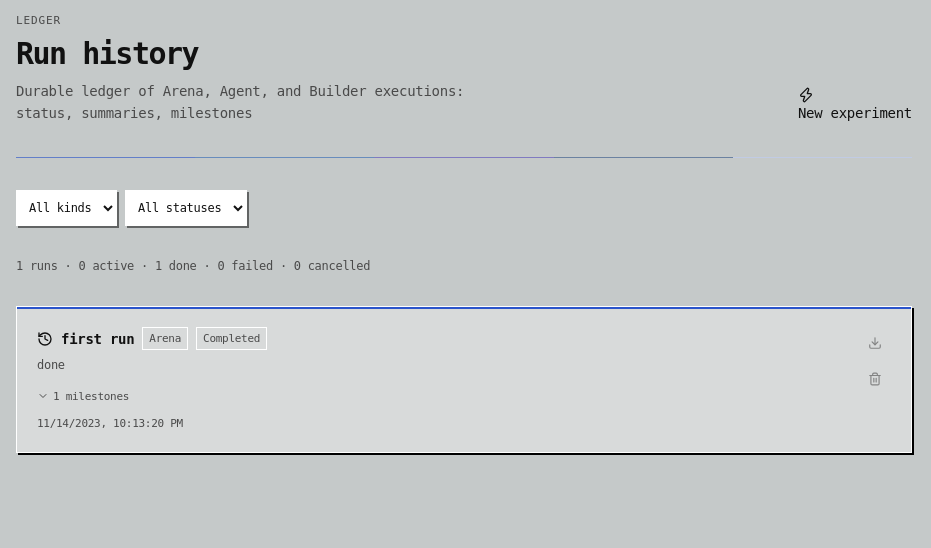
Test: sessions page › deletes a record after confirm
Check: the heading "first run" is shown, box [61,329,134,349]
Click the button named "Delete run record": (875, 379) [859,363,891,395]
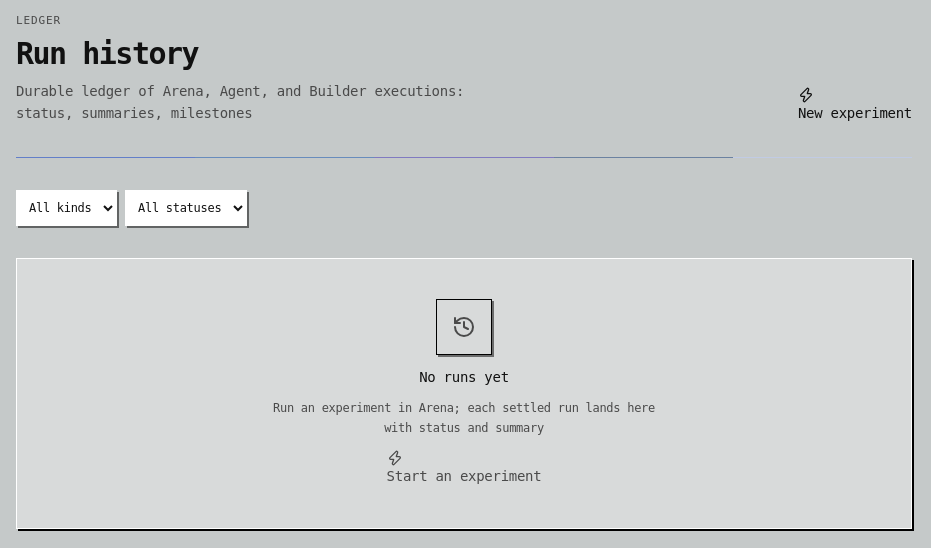
Check: the heading "first run" is gone
